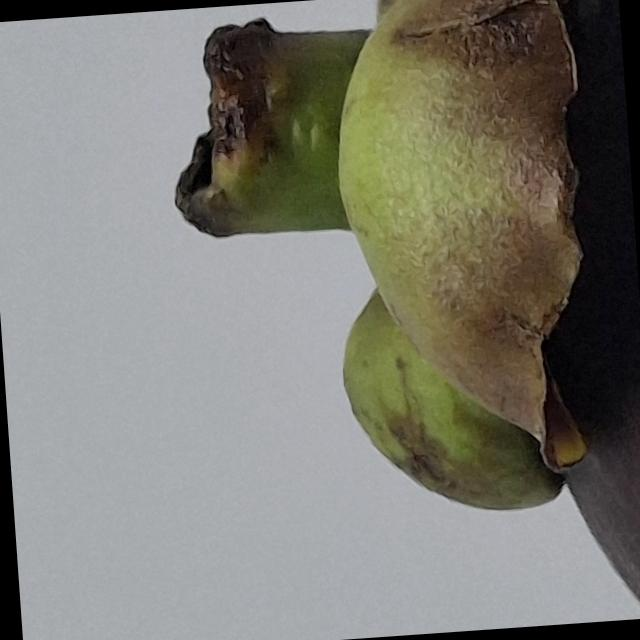mangosteen: (113, 0, 640, 640)
